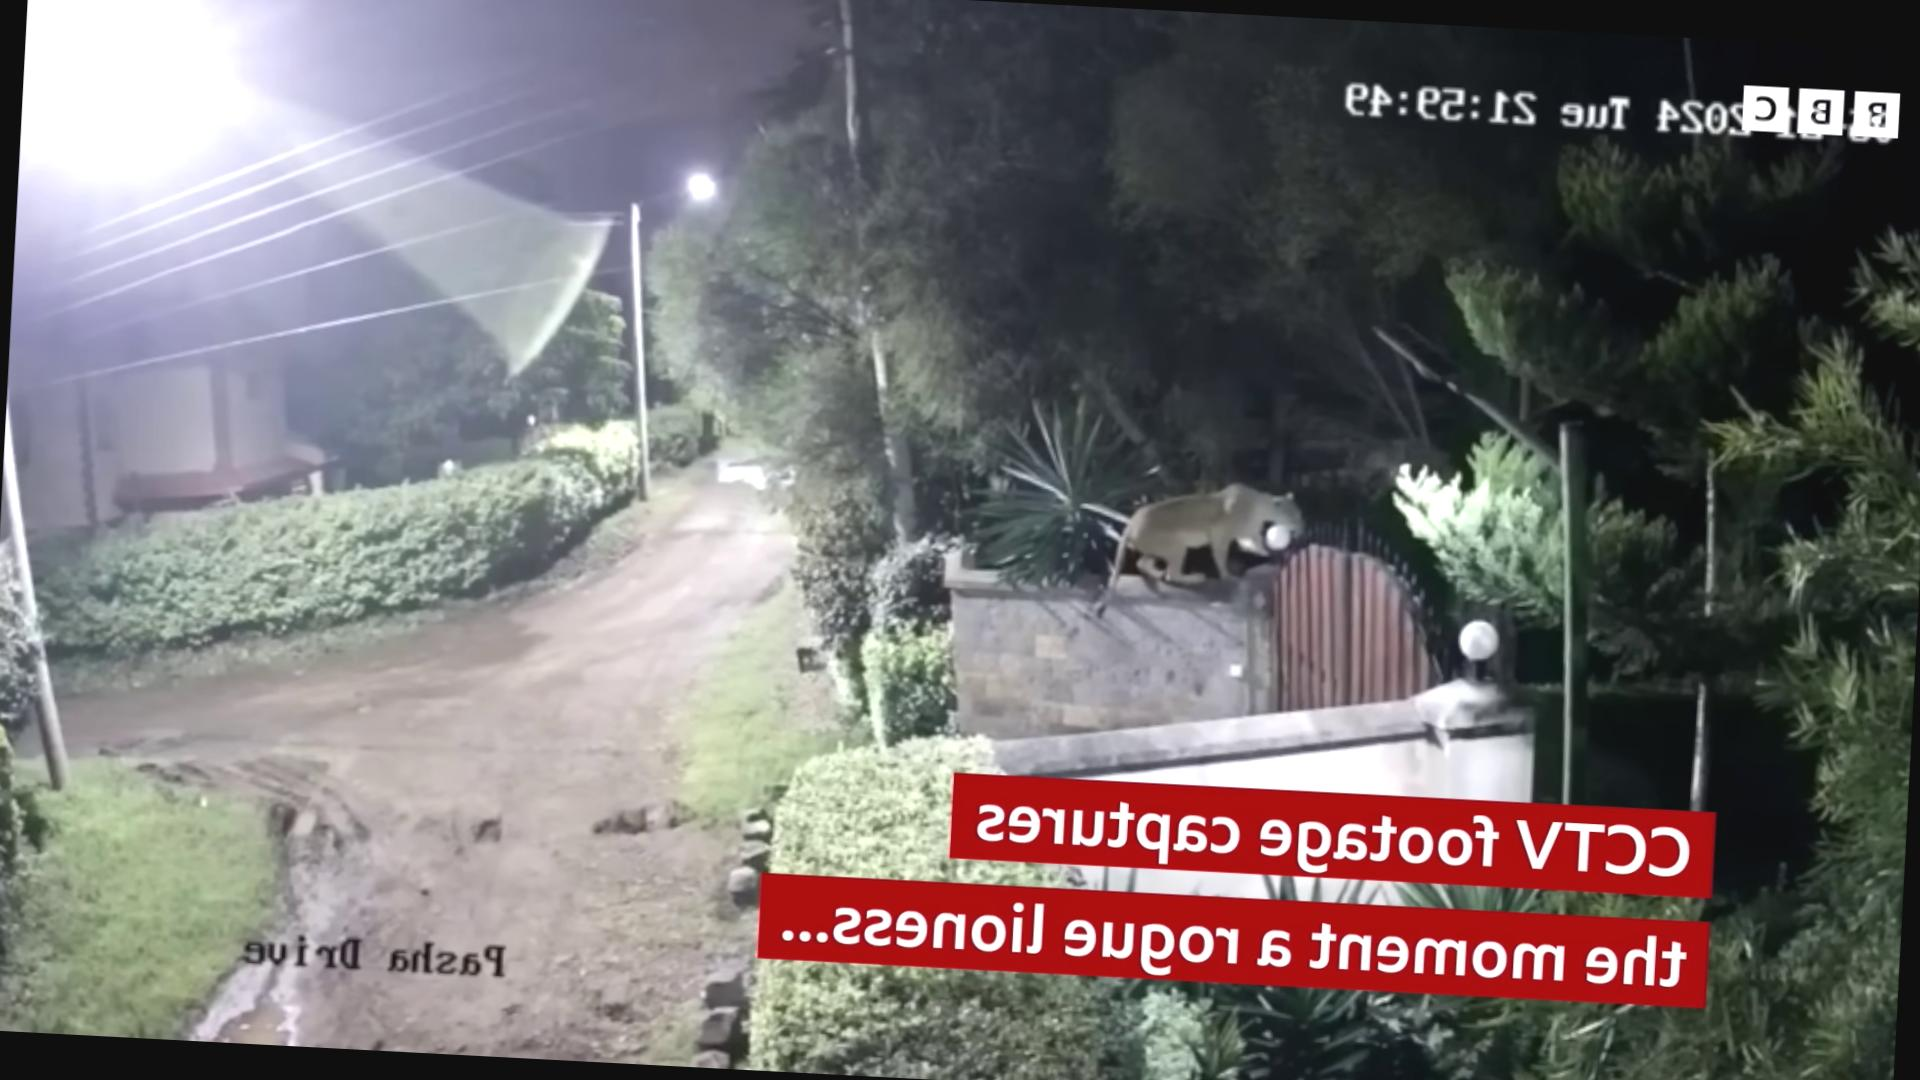lions: (1019, 414, 1346, 671)
